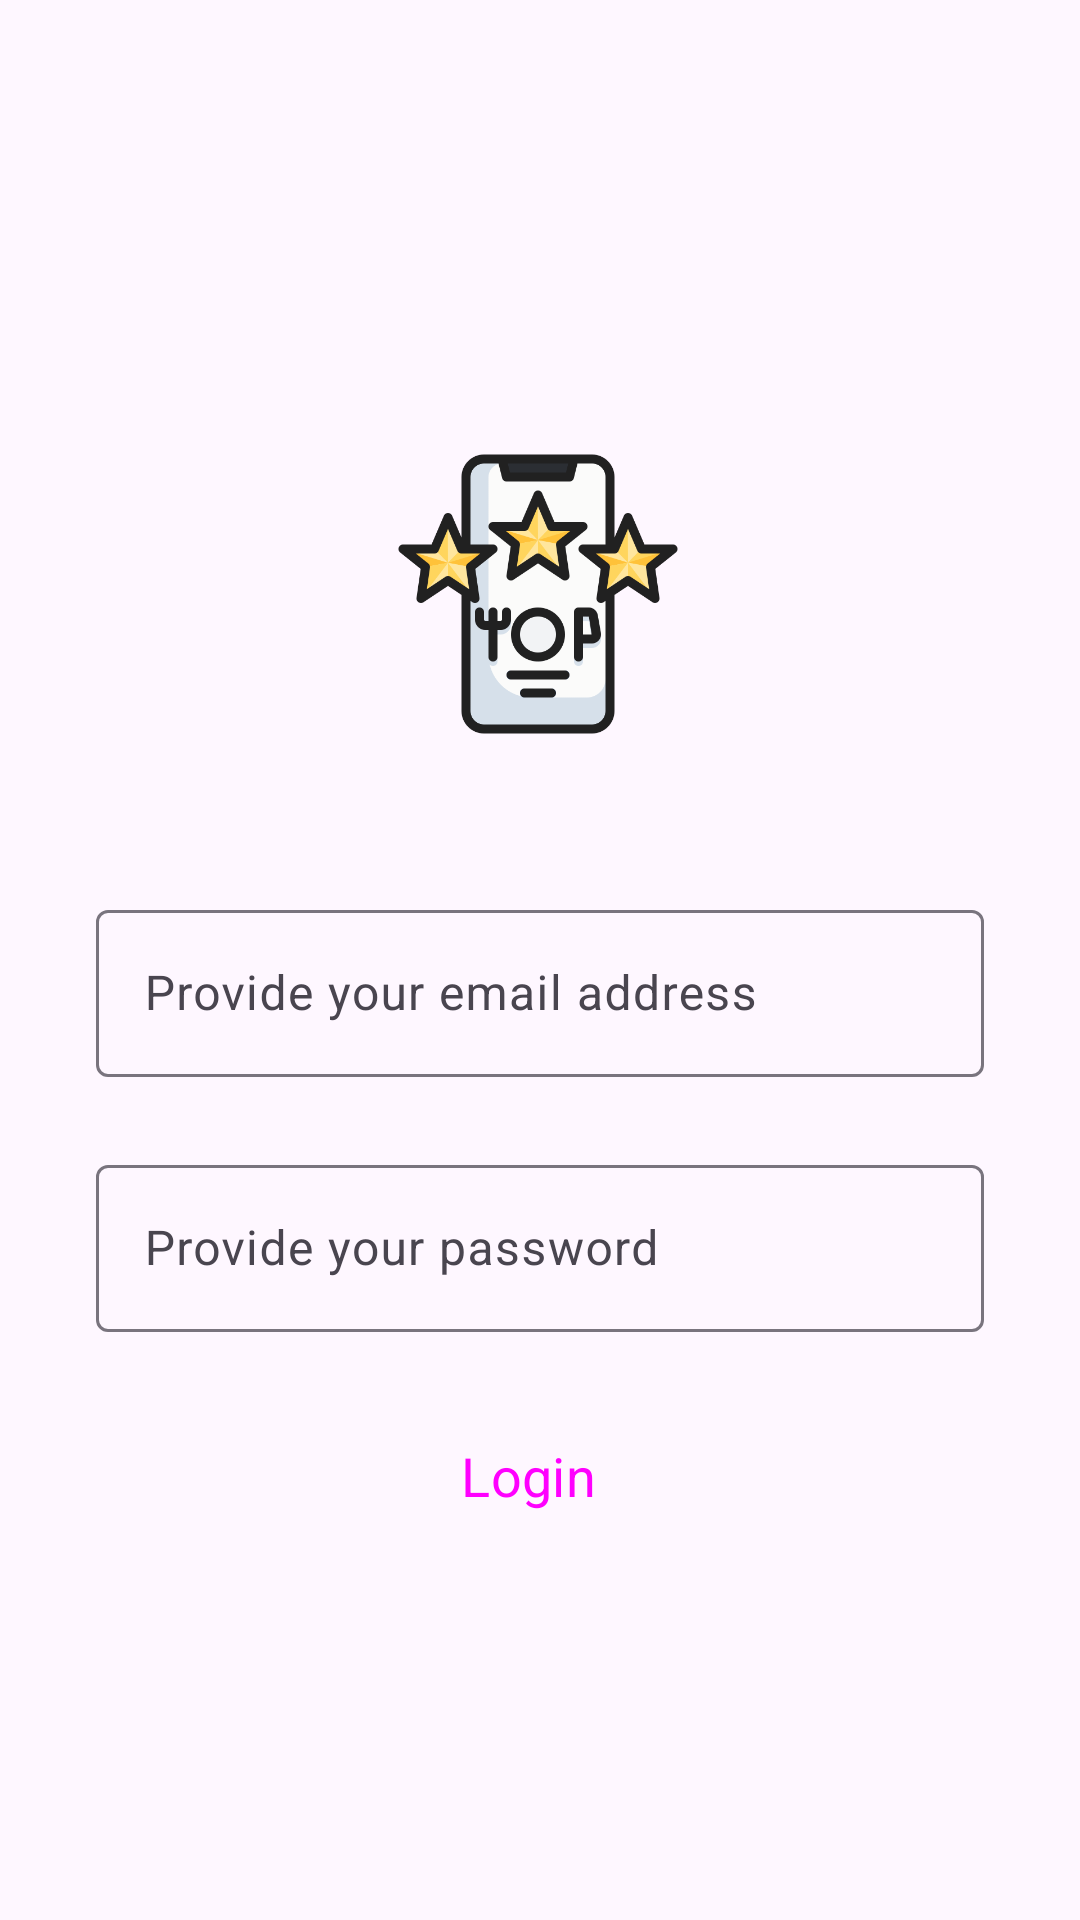

Icons on this 1080px x 1920px Android screen, each with its box as (x1, y1, x2, y2):
restaurant: (398, 454, 678, 734)
